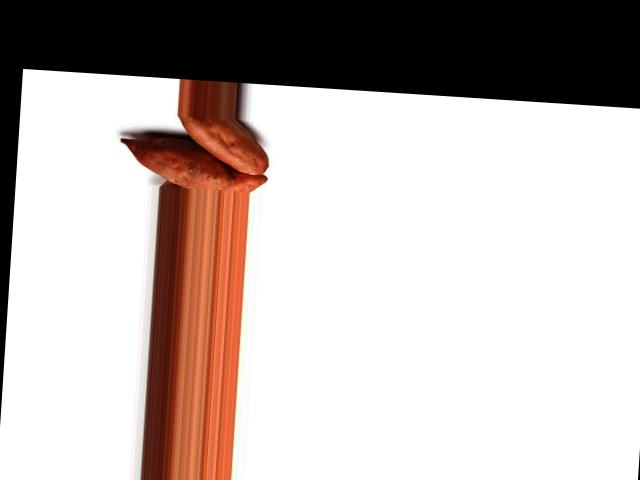sweet_potato: (169, 114, 271, 174)
